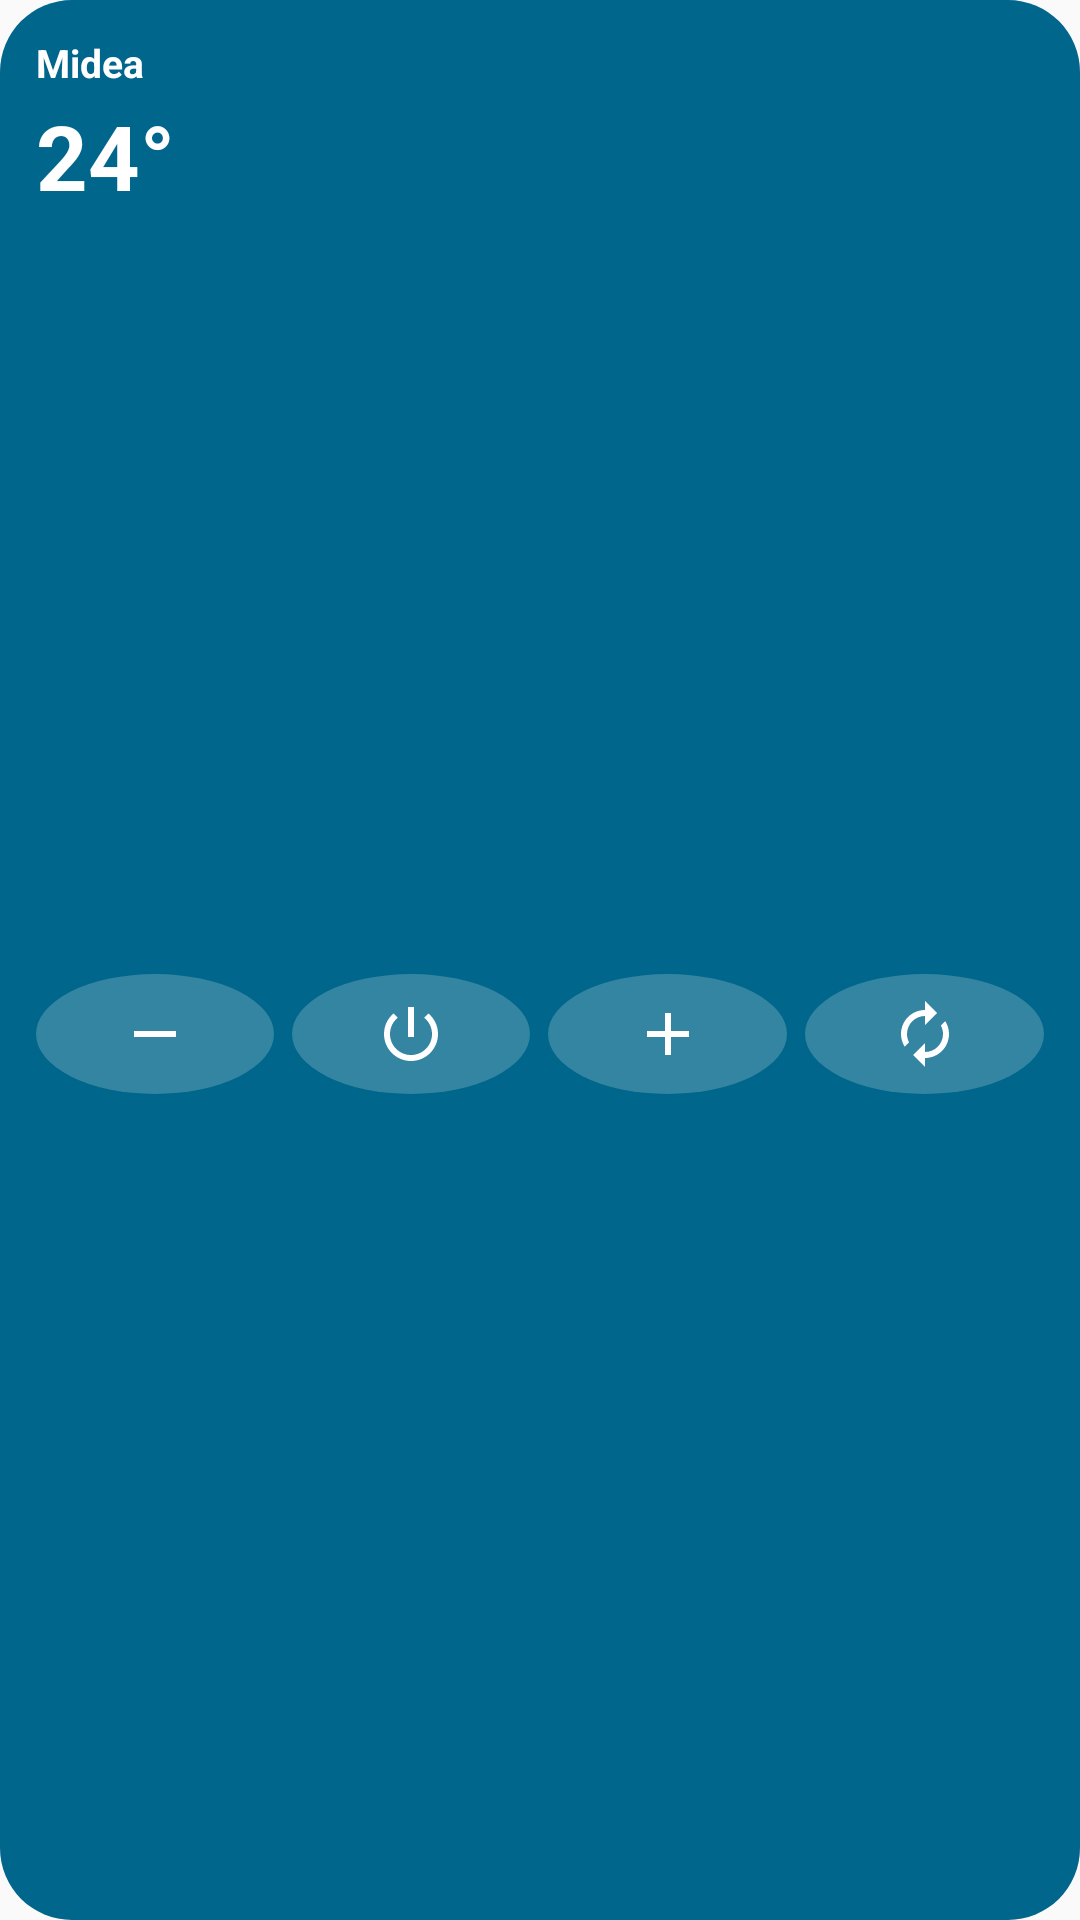

Where icons sit on this 1080px x 1920px app screen, as (x1, y1, x2, y2):
Cooler: (36, 974, 274, 1094)
Mode: (805, 974, 1044, 1094)
Power: (292, 974, 530, 1094)
Warmer: (548, 974, 787, 1094)
